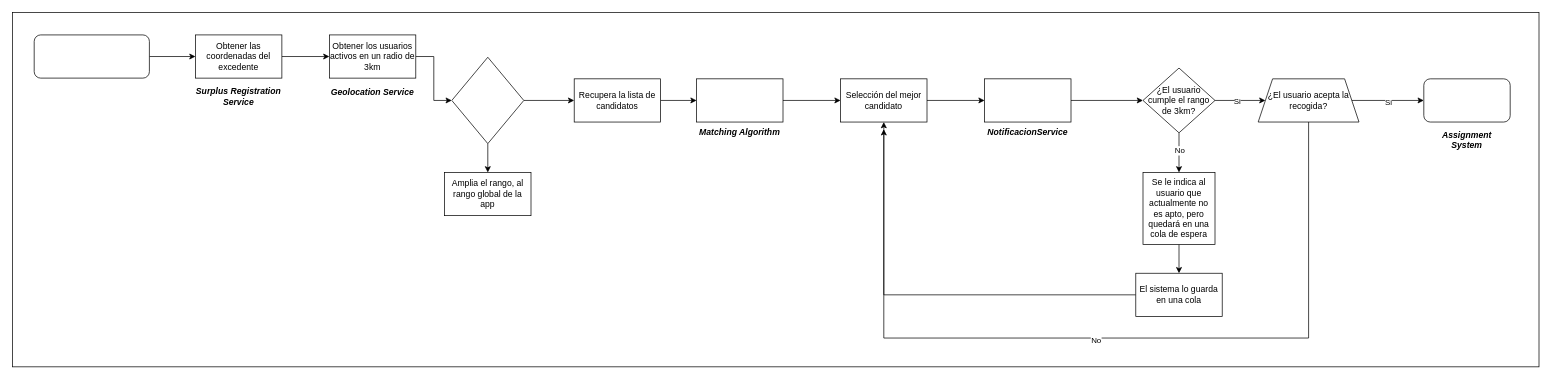
The diagram is 1552 pixels wide and 379 high, and some of its shapes have lost their labels. The box of each missing label's shape, as (x1, y1, x2, y2) in pixels:
Cálculo de la prioridad de los candidatos: (696, 78, 783, 122)
Envío de push up notification al usuario: (984, 78, 1071, 122)
Fin Registro en la db y se quita la disponibilidad del excedente: (1423, 78, 1510, 122)
Inicio Evento de publicación de un excedente: (33, 34, 149, 78)
¿Existen receptores en el rango límite (3km)?: (451, 57, 524, 144)
